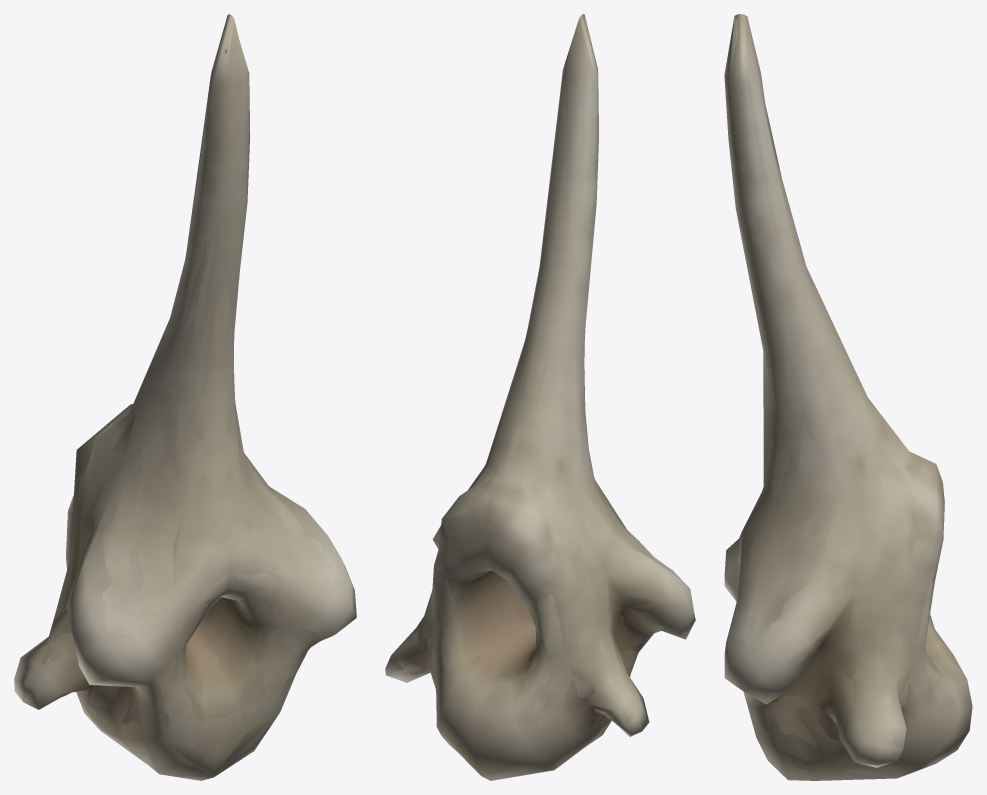
Rendered from vertebrae thoracicae 03.fbx.
3 views of the same model, side by side, from view 1: azimuth 30°, elevation 25°; view 2: azimuth 150°, elevation 25°; view 3: azimuth 270°, elevation 25° (orthographic). The views are drawn at different scales.
Visible parts, largest first — view 1: vertebrae thoracicae 03, vertebrae thoracicae 03 low, vertebrae thoracicae 03 high; view 2: vertebrae thoracicae 03, vertebrae thoracicae 03 low, vertebrae thoracicae 03 high; view 3: vertebrae thoracicae 03, vertebrae thoracicae 03 low, vertebrae thoracicae 03 high.
Part boxes in pixels (x1,y1,x2,y2): vertebrae thoracicae 03: (14, 14, 356, 780); vertebrae thoracicae 03 low: (42, 19, 353, 780); vertebrae thoracicae 03 high: (23, 49, 353, 760); vertebrae thoracicae 03: (385, 14, 695, 780); vertebrae thoracicae 03 low: (386, 15, 692, 774); vertebrae thoracicae 03 high: (404, 42, 687, 772); vertebrae thoracicae 03: (724, 14, 972, 780); vertebrae thoracicae 03 low: (724, 16, 971, 780); vertebrae thoracicae 03 high: (732, 47, 964, 769).
Size of the model in its own units: 1.04 by 2.85 by 0.8365.
1 material, 1 textured.
